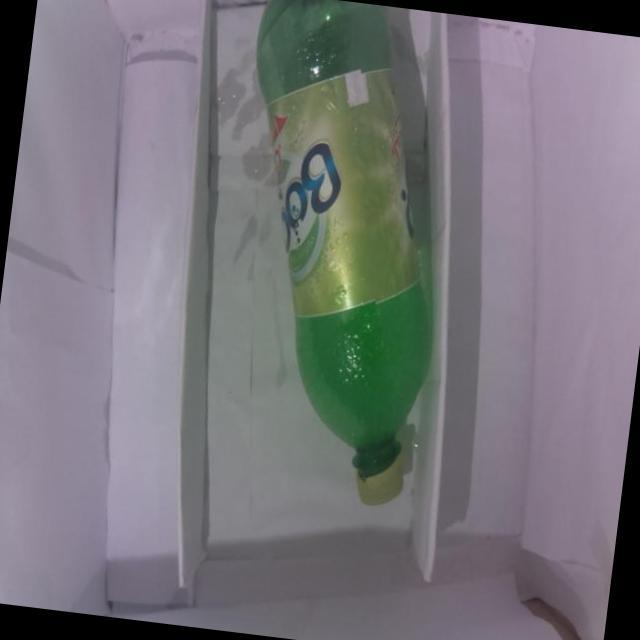good: (196, 0, 483, 519)
